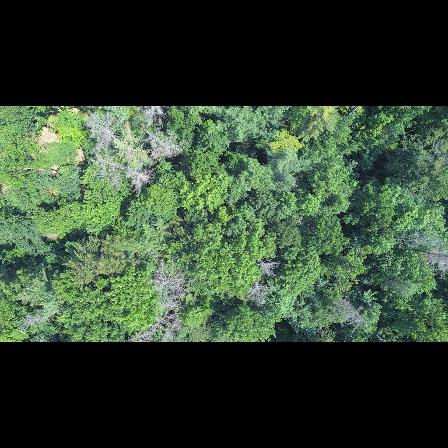Dead: (131, 303, 185, 342), (80, 116, 129, 150), (331, 294, 367, 332), (150, 260, 184, 300), (19, 302, 65, 330), (141, 134, 180, 163), (88, 155, 131, 179), (120, 161, 150, 195), (139, 108, 173, 130), (247, 278, 268, 304), (256, 258, 279, 277)
